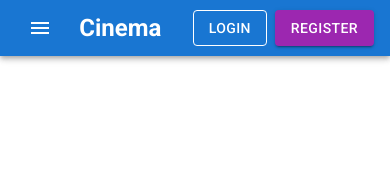
Scenario: Navbar › opens mobile menu when menu icon is clicked
Click the button named "menu": [40, 28] box [16,4,64,52]
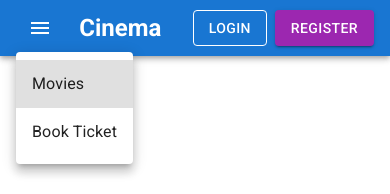
Now the menu is shown, box [16,52,133,164]
